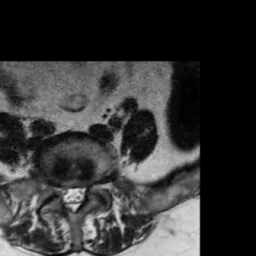CCS_normal: (68, 180, 76, 219)
LFS_severe_stenosis: (84, 174, 93, 203)
LLS_normal: (76, 180, 84, 213)
RFS_normal: (51, 176, 59, 203)
RLS_normal: (59, 178, 68, 213)
